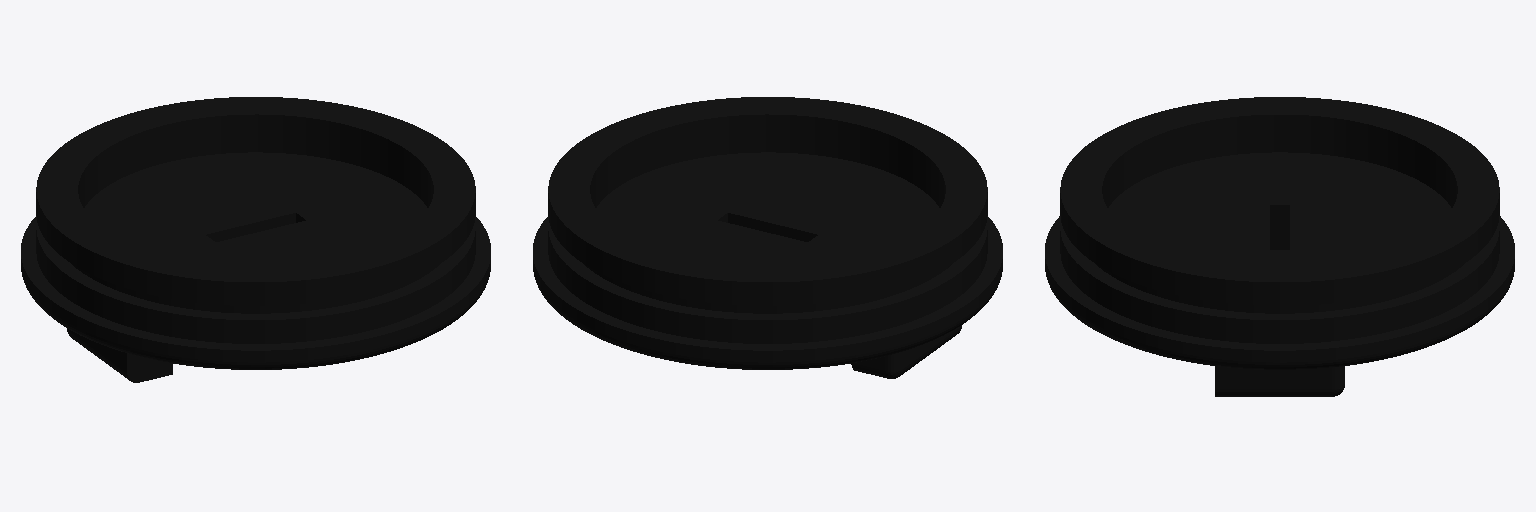
The model's file is FrontCap.obj.
The picture shows the model from 3 angles: view 1: azimuth 30°, elevation 25°; view 2: azimuth 150°, elevation 25°; view 3: azimuth 270°, elevation 25°; orthographic projection.
Parts seen in each view (by area): view 1: FrontCap_Front_Cap_v5; view 2: FrontCap_Front_Cap_v5; view 3: FrontCap_Front_Cap_v5.
Boxes of the visible parts, <box> form: FrontCap_Front_Cap_v5: <box>21,97,490,382</box>; FrontCap_Front_Cap_v5: <box>533,97,1002,378</box>; FrontCap_Front_Cap_v5: <box>1045,97,1514,396</box>.
Size of the model in its own units: 0.09 by 0.028 by 0.09.